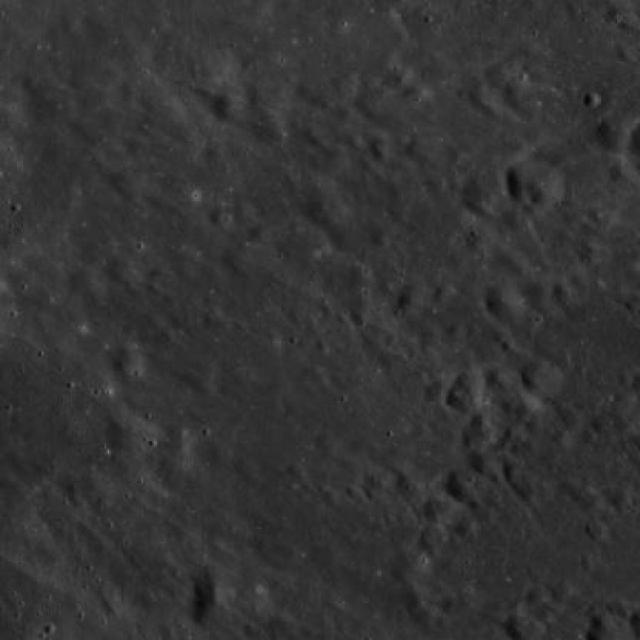crater: (180, 568, 242, 628), (507, 158, 567, 217), (70, 54, 122, 106), (276, 222, 327, 272), (321, 256, 372, 306), (298, 182, 346, 228), (348, 287, 396, 333), (109, 411, 154, 457), (246, 68, 291, 114), (495, 382, 540, 426), (224, 240, 268, 282), (592, 109, 636, 151), (485, 284, 527, 326), (406, 125, 448, 167), (392, 548, 432, 588), (357, 85, 397, 124), (522, 360, 562, 398), (462, 220, 500, 260), (106, 162, 146, 198), (159, 420, 196, 458), (424, 491, 460, 527), (114, 346, 150, 382), (526, 174, 562, 209), (462, 420, 498, 454), (446, 382, 480, 416), (520, 276, 554, 310), (208, 90, 242, 124), (198, 433, 232, 467), (249, 110, 282, 144), (185, 361, 218, 394), (500, 204, 531, 236), (588, 199, 620, 230), (578, 239, 610, 270), (47, 91, 78, 122), (266, 611, 299, 640), (446, 474, 477, 504), (396, 473, 426, 504), (462, 179, 492, 210), (77, 468, 108, 498), (362, 466, 392, 496), (396, 288, 426, 318), (107, 254, 136, 284), (94, 584, 123, 613), (418, 525, 447, 553), (578, 489, 606, 517), (469, 448, 497, 476), (485, 365, 513, 393), (608, 158, 636, 186), (399, 584, 427, 612), (454, 585, 482, 613), (70, 267, 98, 295), (227, 198, 255, 226), (455, 371, 483, 398), (332, 73, 360, 99), (500, 76, 528, 102), (248, 222, 274, 248), (386, 66, 412, 92), (484, 64, 510, 90), (312, 428, 338, 454), (548, 146, 574, 172), (550, 282, 576, 307), (410, 603, 436, 628), (418, 322, 444, 347), (612, 410, 637, 436), (492, 242, 517, 267), (533, 475, 558, 500), (422, 169, 447, 194), (300, 124, 326, 148), (468, 85, 492, 110), (154, 324, 178, 348), (124, 132, 148, 156), (505, 253, 530, 276), (552, 580, 576, 603), (232, 453, 256, 476), (360, 328, 383, 352), (514, 480, 538, 502), (608, 2, 632, 24), (612, 491, 634, 514), (406, 83, 428, 106), (594, 612, 616, 634), (456, 516, 478, 538), (424, 384, 446, 406), (526, 586, 548, 608), (369, 132, 391, 154), (60, 474, 82, 496), (568, 270, 590, 292), (502, 463, 524, 483), (342, 130, 364, 150), (587, 521, 607, 541), (470, 412, 490, 432), (433, 284, 453, 304), (474, 202, 494, 222), (371, 228, 391, 248), (334, 104, 354, 124), (286, 459, 306, 479), (151, 262, 171, 282), (252, 533, 272, 553), (91, 534, 111, 554), (392, 439, 412, 459), (613, 388, 633, 408), (519, 314, 539, 334), (209, 204, 229, 224), (413, 423, 432, 442), (606, 596, 625, 615), (372, 144, 390, 164), (526, 418, 545, 436), (598, 122, 617, 140), (144, 309, 162, 328), (170, 519, 188, 538), (362, 368, 380, 387), (568, 482, 586, 500), (322, 490, 340, 508), (506, 424, 524, 442), (492, 327, 510, 345), (584, 92, 601, 110), (270, 128, 287, 146), (440, 596, 458, 613), (158, 622, 175, 640), (429, 374, 446, 392), (40, 484, 57, 501), (136, 587, 153, 604), (592, 416, 608, 433), (620, 48, 637, 64), (458, 137, 474, 154), (448, 324, 463, 340), (96, 491, 112, 506), (346, 486, 362, 500), (210, 535, 224, 551)
